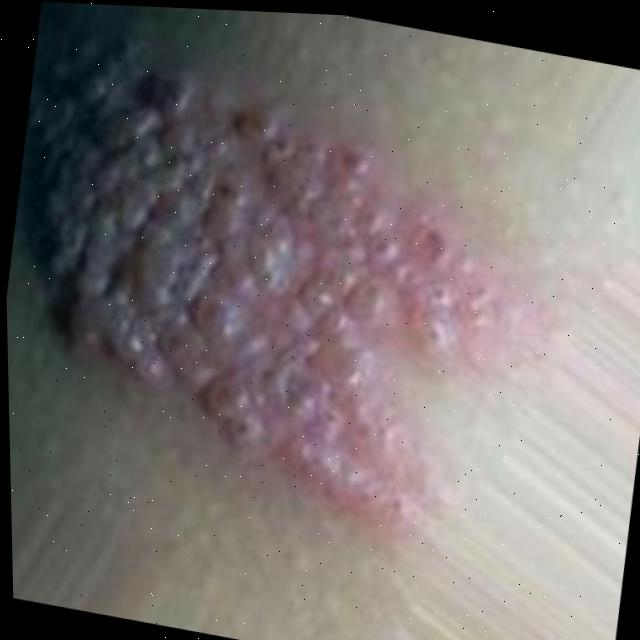Shingles: (1, 23, 545, 540)
